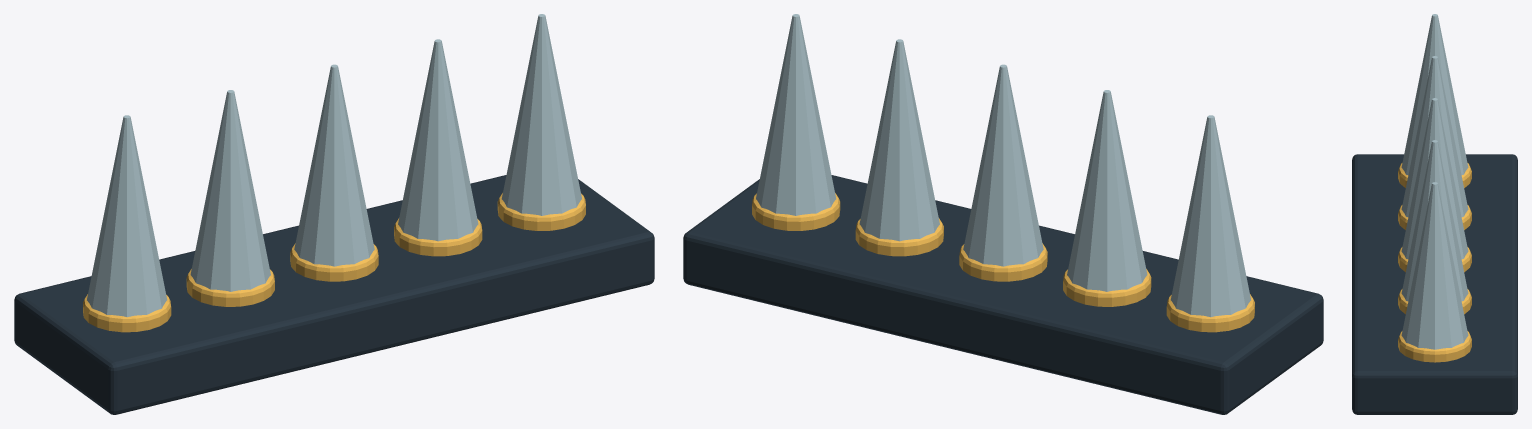
Rendered from SM_SpikeRack.fbx.
The picture shows the model from 3 angles, left to right: view 1: azimuth 30°, elevation 25°; view 2: azimuth 150°, elevation 25°; view 3: azimuth 270°, elevation 25°; orthographic projection. The views are drawn at different scales.
Visible parts, largest first — view 1: SM_SpikeRack; view 2: SM_SpikeRack; view 3: SM_SpikeRack.
Part boxes in pixels (left/top/right/bottom): SM_SpikeRack: left=14, top=14, right=654, bottom=414; SM_SpikeRack: left=683, top=14, right=1323, bottom=414; SM_SpikeRack: left=1352, top=14, right=1517, bottom=414.
Size of the model in its own units: 142 by 45 by 62.
